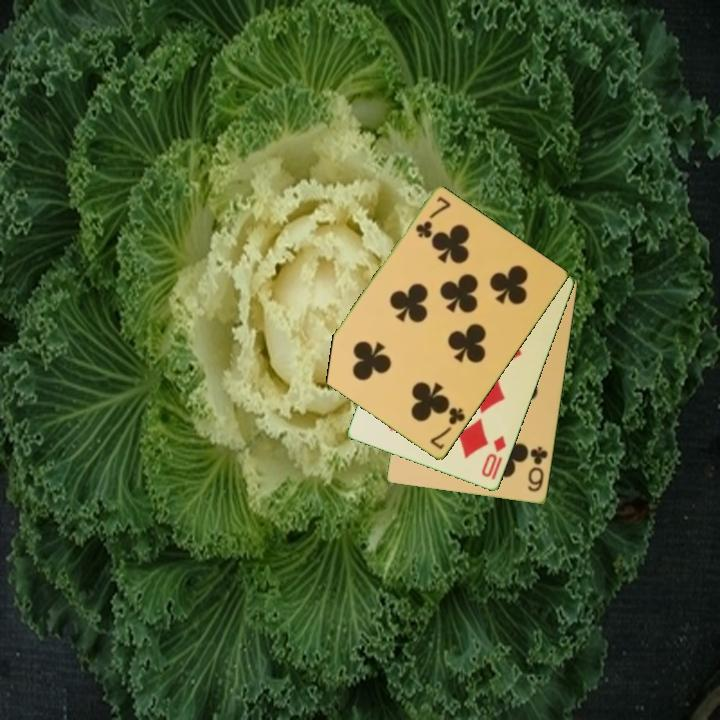10d: (478, 432, 509, 480)
6c: (524, 443, 551, 495)
7c: (426, 404, 468, 453), (412, 193, 454, 242)
